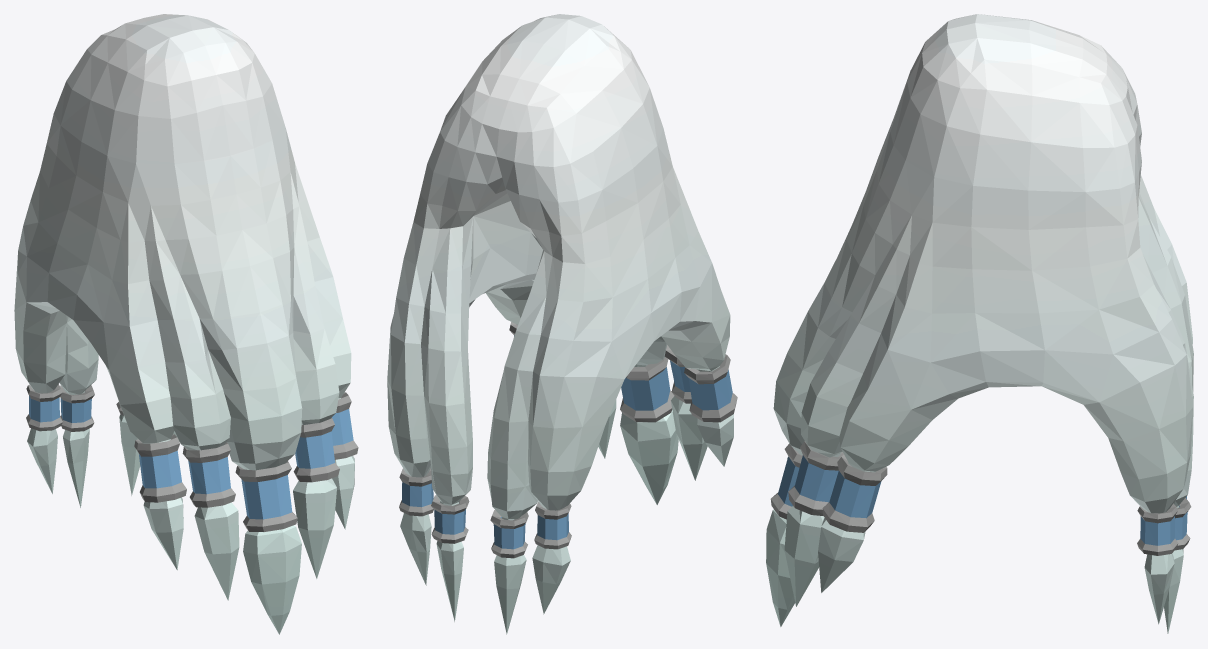
Rendered from CharSkyKid_Hair_ElderRain.glb.
3 views of the same model, side by side, from view 1: azimuth 30°, elevation 25°; view 2: azimuth 150°, elevation 25°; view 3: azimuth 270°, elevation 25° (orthographic). The views are drawn at different scales.
Parts seen in each view (by area): view 1: CharSkyKid_Hair_ElderRain; view 2: CharSkyKid_Hair_ElderRain; view 3: CharSkyKid_Hair_ElderRain.
Part boxes in pixels (x1,y1,x2,y2): CharSkyKid_Hair_ElderRain: [14, 14, 358, 634]; CharSkyKid_Hair_ElderRain: [387, 14, 737, 634]; CharSkyKid_Hair_ElderRain: [766, 14, 1193, 633].
Bounding box in the file's own units: 3.76 × 8.48 × 5.43.
1 material, 1 textured.
